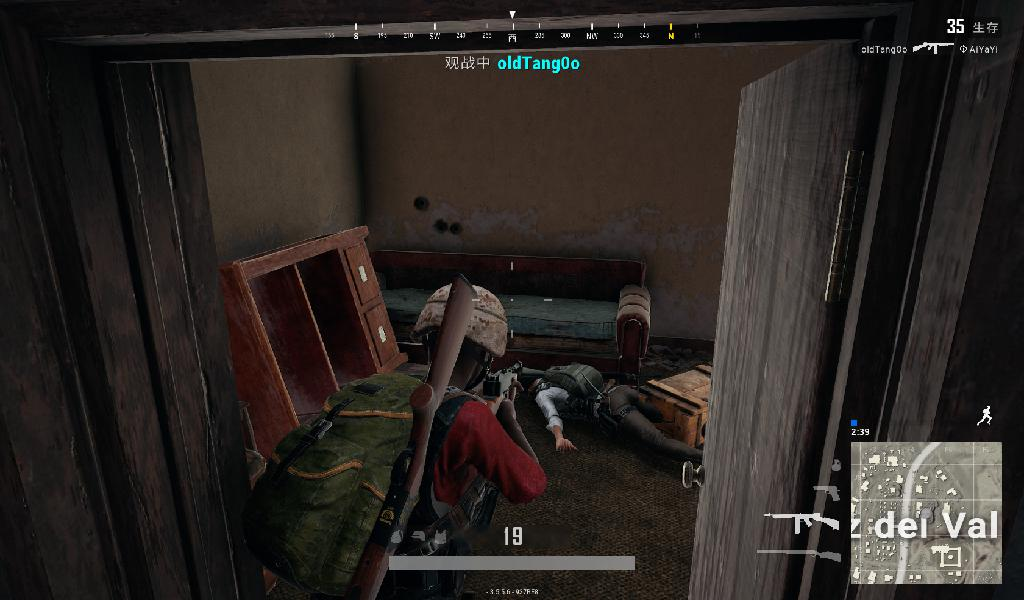Target Person: (260, 281, 547, 600), (490, 348, 763, 477)
